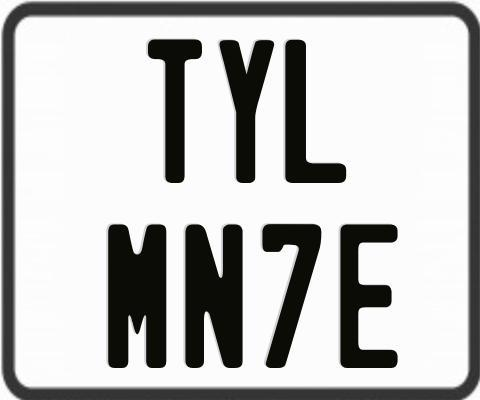7: (259, 224, 324, 369)
E: (338, 224, 401, 368)
L: (283, 37, 344, 182)
M: (107, 224, 170, 371)
N: (183, 222, 243, 372)
T: (146, 37, 200, 184)
Y: (217, 37, 277, 180)
